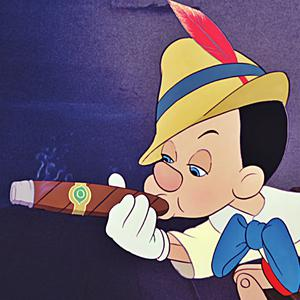cigarette: (7, 177, 171, 225)
